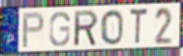2: (153, 6, 175, 45)
G: (48, 11, 72, 48)
O: (99, 9, 124, 47)
P: (21, 11, 46, 50)
R: (73, 9, 100, 48)
T: (128, 7, 149, 46)
